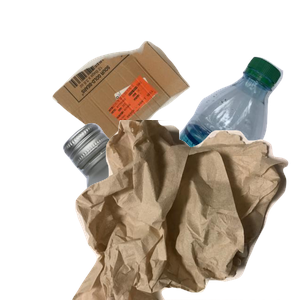cardboard: (50, 38, 233, 184)
glass: (60, 120, 300, 300)
plastic: (142, 54, 300, 234)
trash: (70, 120, 300, 300)
